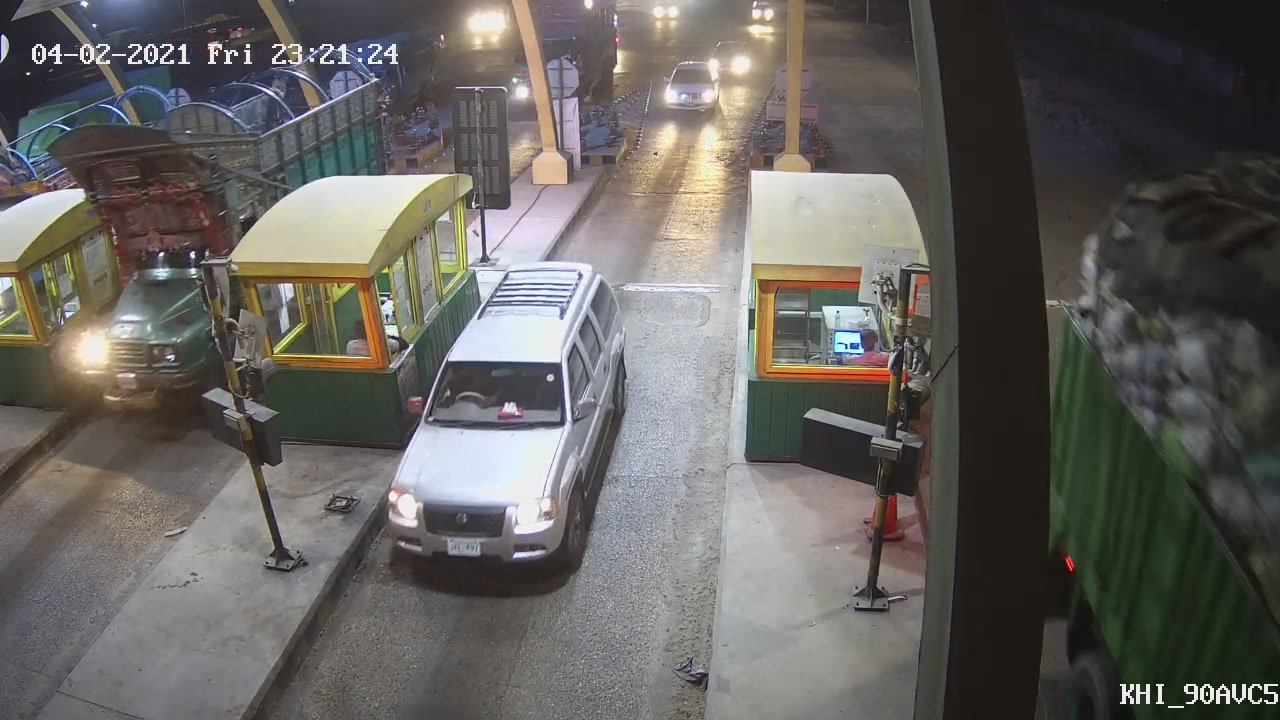F1: (381, 255, 632, 575)
